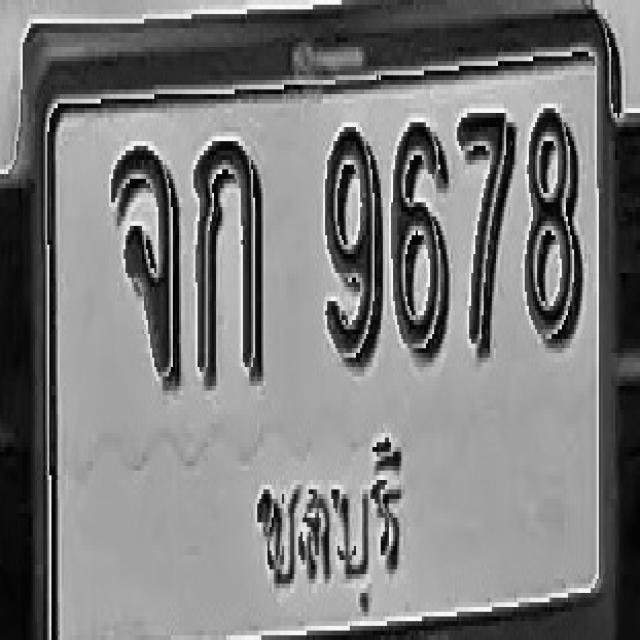10GorGai: (194, 136, 264, 386)
17ChorChan: (111, 146, 181, 390)
6: (393, 118, 449, 362)
7: (458, 108, 515, 358)
8: (525, 106, 582, 346)
9: (325, 125, 383, 369)
Chonburi: (247, 430, 407, 624)
